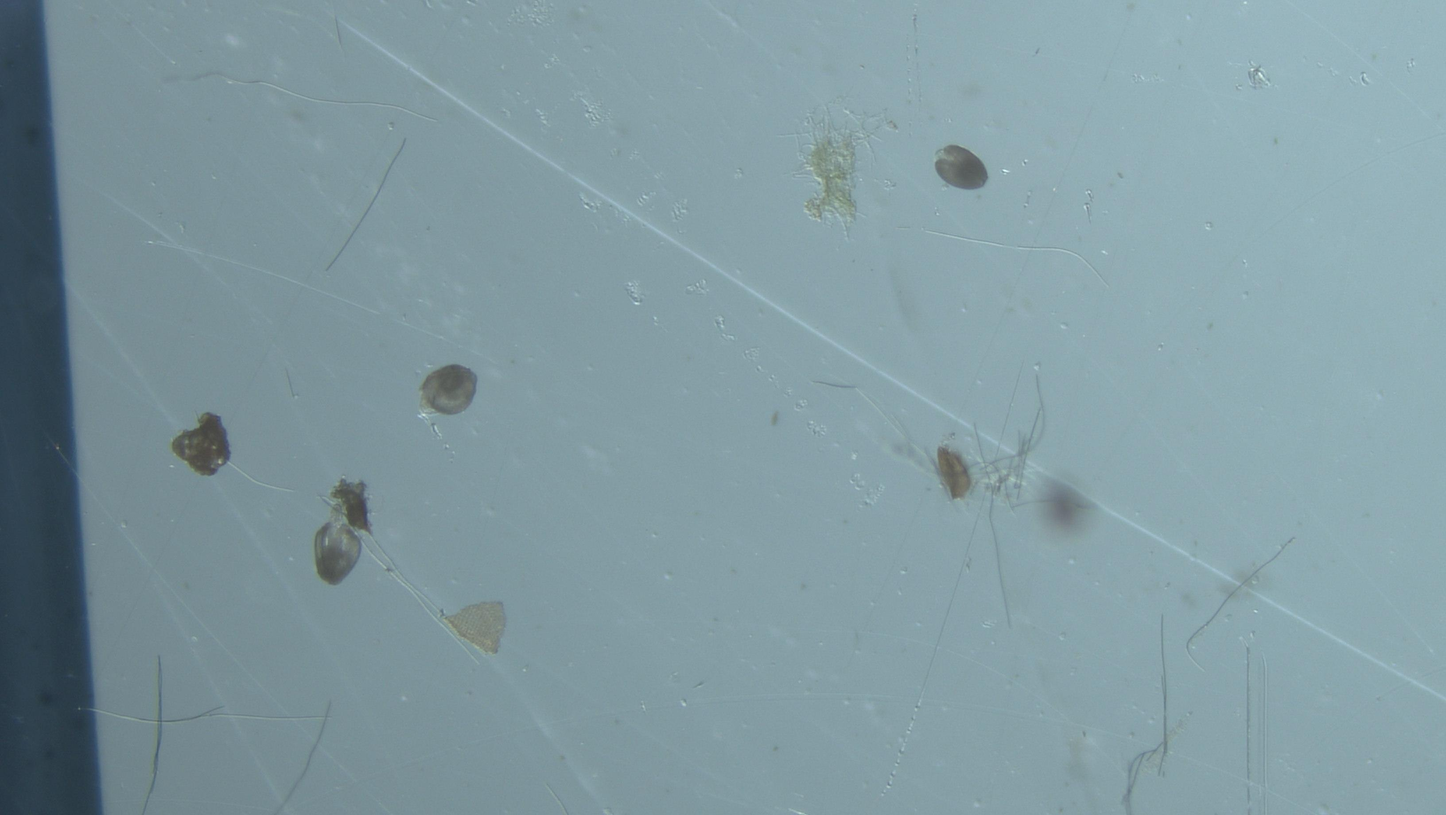live: (314, 517, 363, 586), (420, 365, 478, 417), (935, 145, 988, 190)
